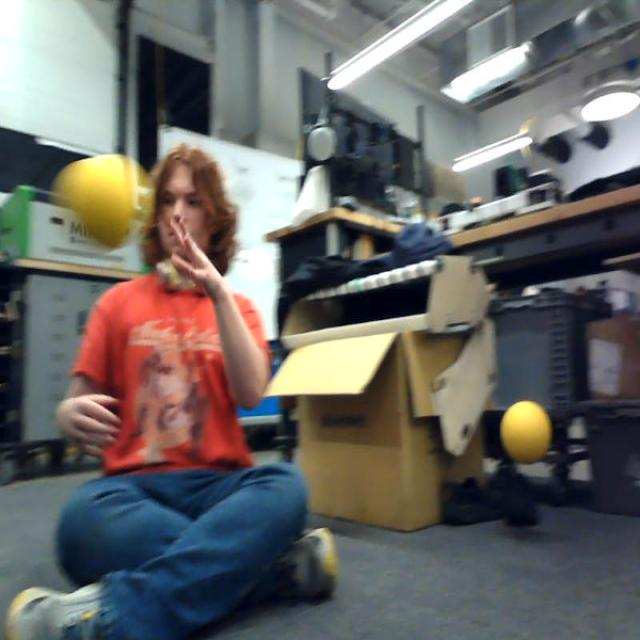Fuel: (65, 153, 142, 249), (500, 400, 550, 464)
